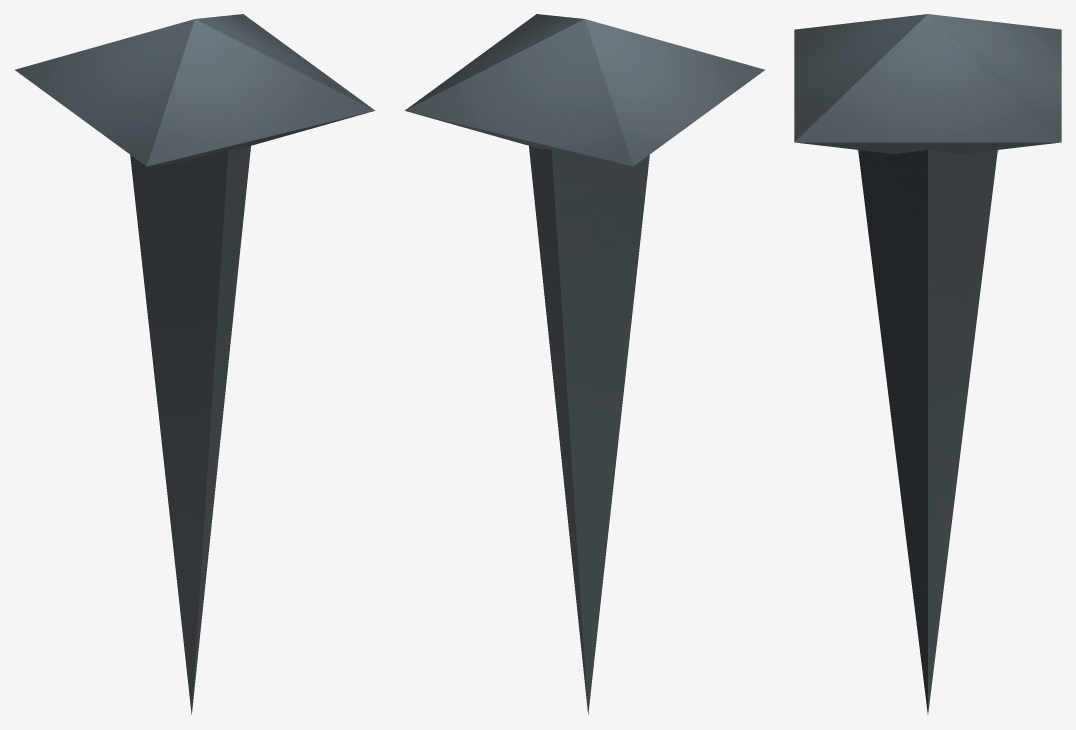
3 renders of one model, left to right at view 1: azimuth 30°, elevation 25°; view 2: azimuth 150°, elevation 25°; view 3: azimuth 270°, elevation 25°, orthographic.
Visible parts, largest first — view 1: part_16:Mesh; view 2: part_16:Mesh; view 3: part_16:Mesh.
Part boxes in pixels (bbox=[...]): part_16:Mesh: bbox=[15, 14, 375, 714]; part_16:Mesh: bbox=[404, 14, 764, 714]; part_16:Mesh: bbox=[794, 14, 1061, 714].
Size of the model in its own units: 0.3605 by 1.05 by 0.3605.
